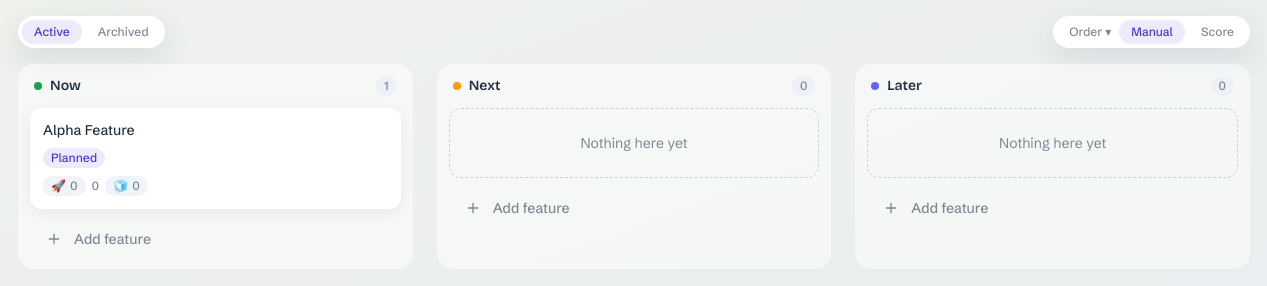
Scenario: Board archived view › switching to Archived view shows archived features with Restore and Delete permanently
Click the button "Archived". click: (123, 32)
box: [86, 20, 161, 44]
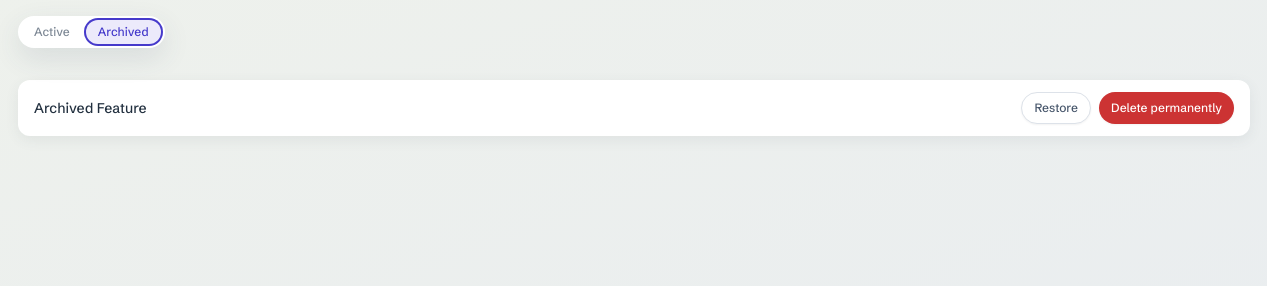
Now the text "Archived Feature" is shown, box [34, 98, 147, 118]
Now the button "Restore" is shown, box [1022, 92, 1091, 124]
Now the button "Delete permanently" is shown, box [1099, 92, 1234, 124]
